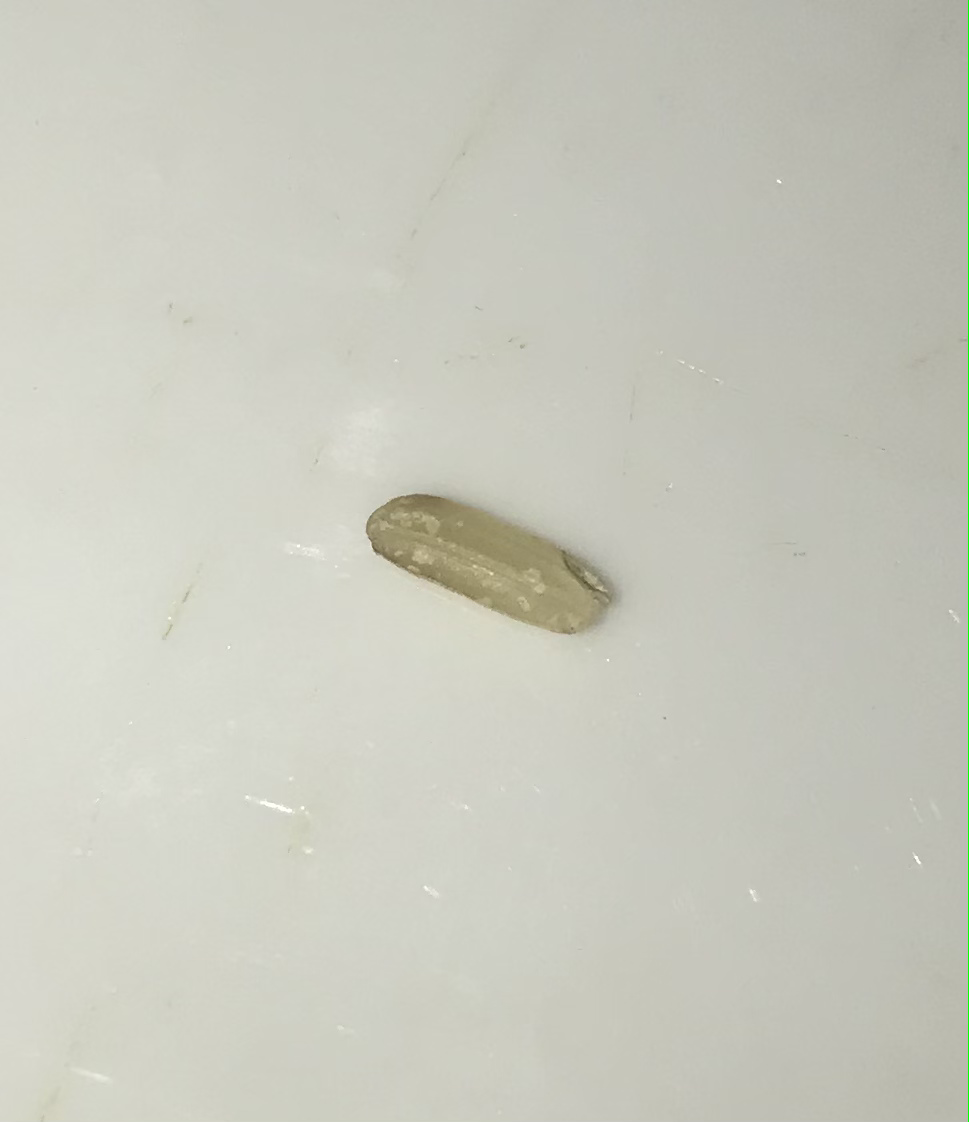Gao Lut Trang: (352, 482, 639, 656)
